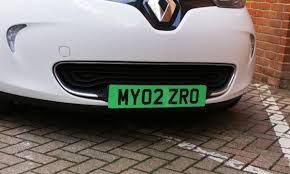number_plate: (105, 80, 211, 113)
